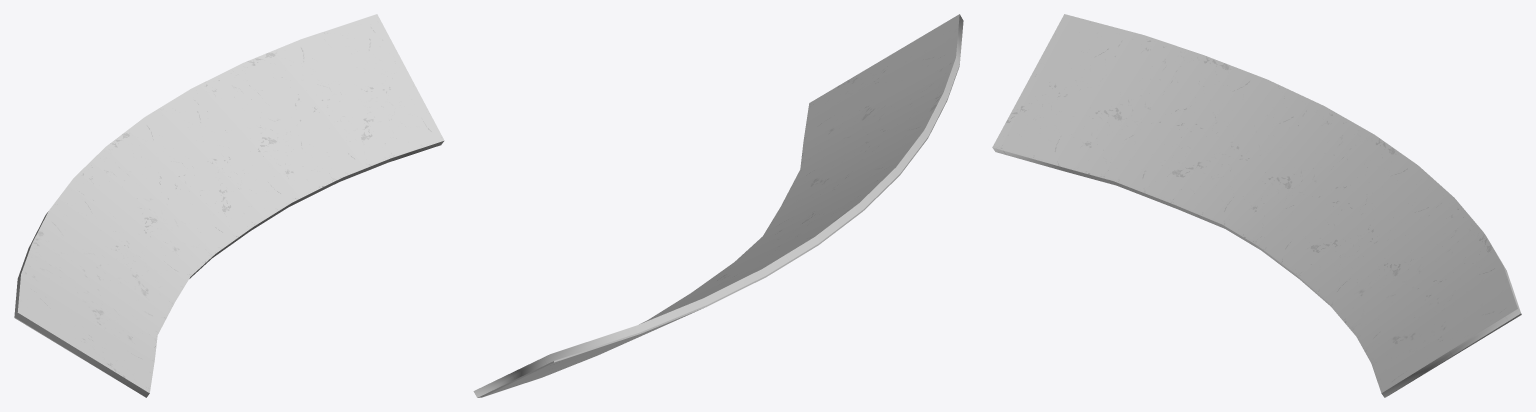
The model's file is LabRoof_3.fbx.
3 views of the same model, side by side, from view 1: azimuth 30°, elevation 25°; view 2: azimuth 210°, elevation 25°; view 3: azimuth 270°, elevation 25° (orthographic). The views are drawn at different scales.
Visible parts, largest first — view 1: Lab_3; view 2: Lab_3; view 3: Lab_3.
Boxes of the visible parts, left/top/right/bottom form: Lab_3: left=14, top=14, right=444, bottom=397; Lab_3: left=473, top=14, right=963, bottom=397; Lab_3: left=992, top=14, right=1521, bottom=397.
Bounding box in the file's own units: 48.64 × 6.8 × 36.66.
